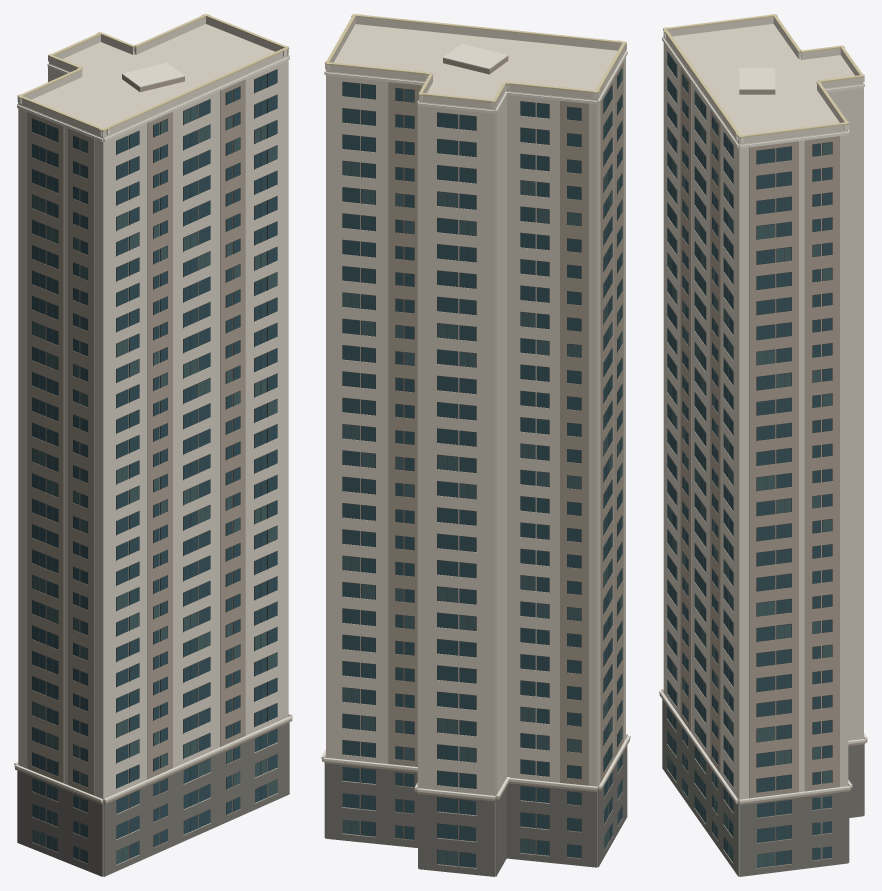
The model's file is bespoke-raemian-prestige-127.glb.
The picture shows the model from 3 angles, left to right: view 1: azimuth 30°, elevation 25°; view 2: azimuth 150°, elevation 25°; view 3: azimuth 270°, elevation 25°; orthographic projection. The views are drawn at different scales.
Parts seen in each view (by area): view 1: Prestige_warm_ivory_rendered_wall012, Prestige_wide_taupe_pilasters012, Prestige_recessed_blue_green_window012, Prestige_dark_bronze_thin_window_frame012, Prestige_dark_brown_grey_stone_base012, Prestige_muted_green_window_pair012, Prestige_pale_limestone_band012, Prestige_cream_gold_crown_coping012; view 2: Prestige_warm_ivory_rendered_wall012, Prestige_recessed_blue_green_window012, Prestige_wide_taupe_pilasters012, Prestige_dark_bronze_thin_window_frame012, Prestige_dark_brown_grey_stone_base012, Prestige_muted_green_window_pair012, Prestige_pale_limestone_band012, Prestige_cream_gold_crown_coping012; view 3: Prestige_warm_ivory_rendered_wall012, Prestige_wide_taupe_pilasters012, Prestige_recessed_blue_green_window012, Prestige_dark_bronze_thin_window_frame012, Prestige_dark_brown_grey_stone_base012, Prestige_muted_green_window_pair012, Prestige_pale_limestone_band012, Prestige_cream_gold_crown_coping012.
Part boxes in pixels (bbox=[...]): Prestige_warm_ivory_rendered_wall012: bbox=[18, 17, 288, 876]; Prestige_wide_taupe_pilasters012: bbox=[15, 74, 292, 864]; Prestige_recessed_blue_green_window012: bbox=[32, 70, 277, 863]; Prestige_dark_bronze_thin_window_frame012: bbox=[32, 69, 277, 864]; Prestige_dark_brown_grey_stone_base012: bbox=[17, 722, 289, 876]; Prestige_muted_green_window_pair012: bbox=[32, 105, 277, 864]; Prestige_pale_limestone_band012: bbox=[14, 48, 292, 801]; Prestige_cream_gold_crown_coping012: bbox=[17, 14, 289, 131]; Prestige_warm_ivory_rendered_wall012: bbox=[326, 17, 625, 876]; Prestige_recessed_blue_green_window012: bbox=[342, 73, 622, 867]; Prestige_wide_taupe_pilasters012: bbox=[322, 56, 629, 858]; Prestige_dark_bronze_thin_window_frame012: bbox=[342, 68, 622, 867]; Prestige_dark_brown_grey_stone_base012: bbox=[324, 746, 627, 876]; Prestige_muted_green_window_pair012: bbox=[342, 68, 622, 865]; Prestige_pale_limestone_band012: bbox=[321, 43, 630, 798]; Prestige_cream_gold_crown_coping012: bbox=[324, 14, 626, 102]; Prestige_warm_ivory_rendered_wall012: bbox=[663, 17, 863, 876]; Prestige_wide_taupe_pilasters012: bbox=[659, 67, 867, 868]; Prestige_recessed_blue_green_window012: bbox=[667, 52, 831, 865]; Prestige_dark_bronze_thin_window_frame012: bbox=[667, 51, 832, 867]; Prestige_dark_brown_grey_stone_base012: bbox=[662, 692, 864, 876]; Prestige_muted_green_window_pair012: bbox=[667, 79, 831, 867]; Prestige_pale_limestone_band012: bbox=[659, 32, 867, 802]; Prestige_cream_gold_crown_coping012: bbox=[663, 14, 864, 138].
Size of the model in its own units: 28.93 by 79.3 by 20.26.
